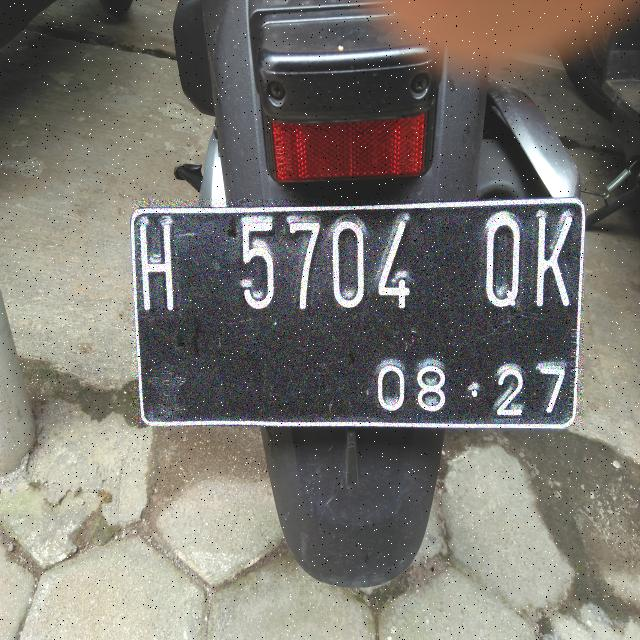plate: (132, 199, 583, 426)
